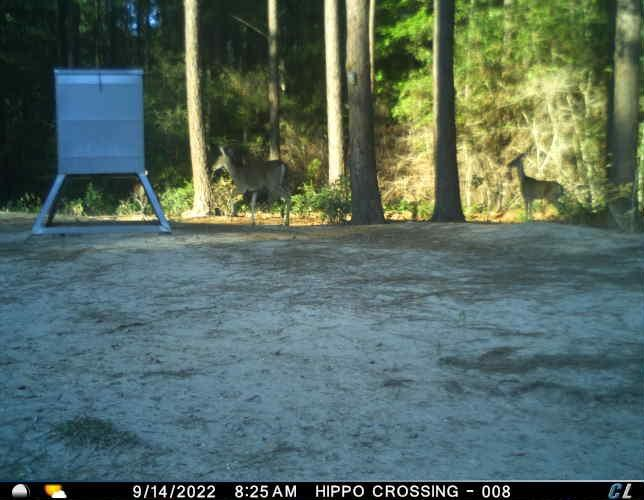Deer: (208, 142, 292, 231), (505, 151, 570, 227), (132, 168, 150, 219)
